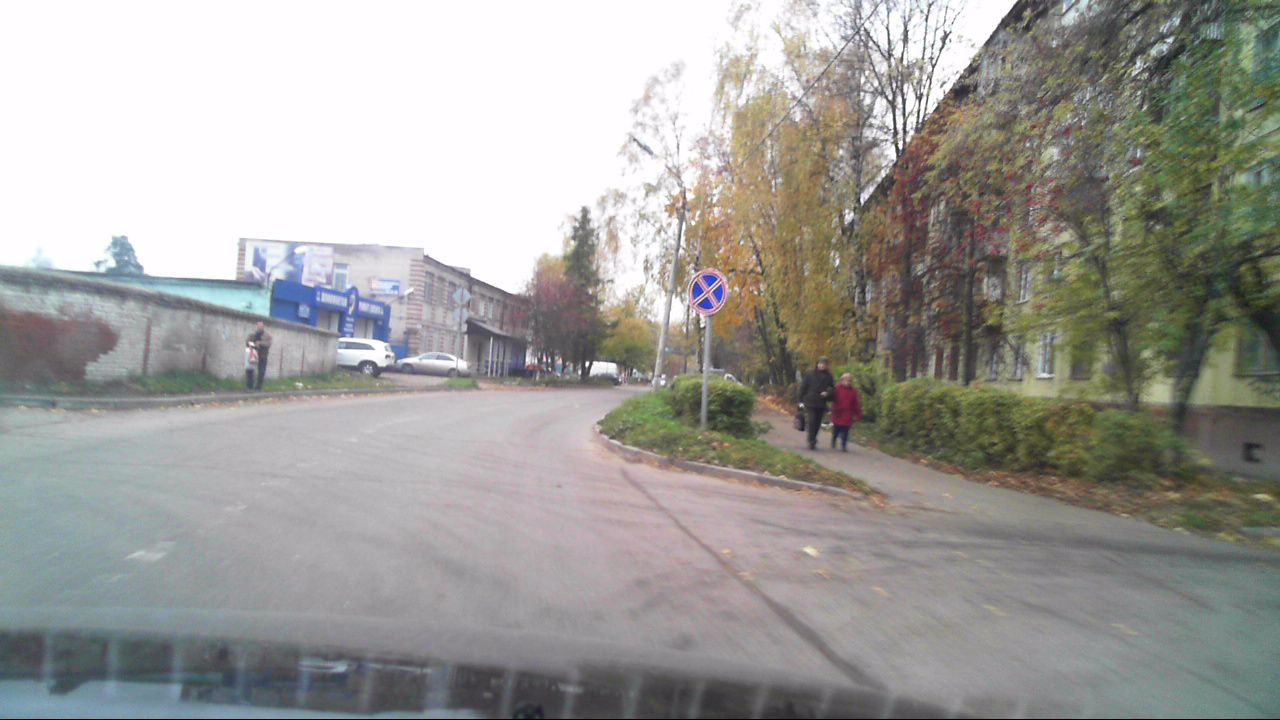No Parking: (688, 269, 726, 315)
